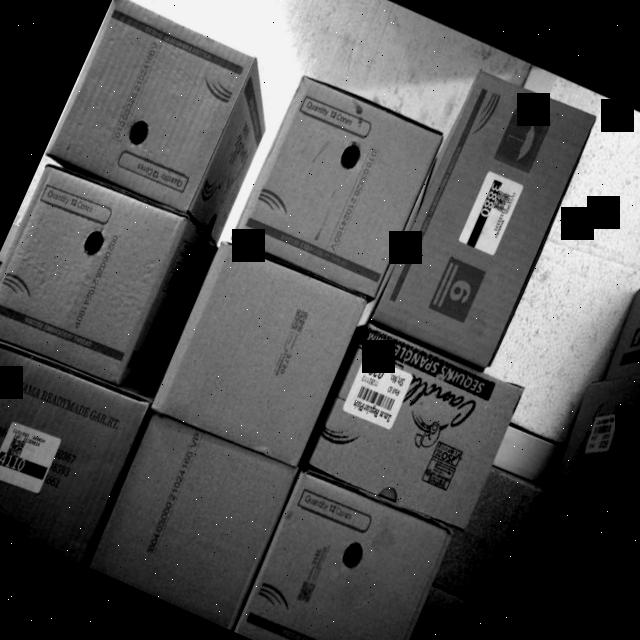box: (368, 68, 598, 372), (150, 238, 368, 471), (231, 71, 446, 300), (306, 322, 524, 535), (44, 0, 258, 216), (86, 414, 296, 628), (0, 161, 187, 392), (235, 468, 455, 640), (0, 328, 150, 560)
